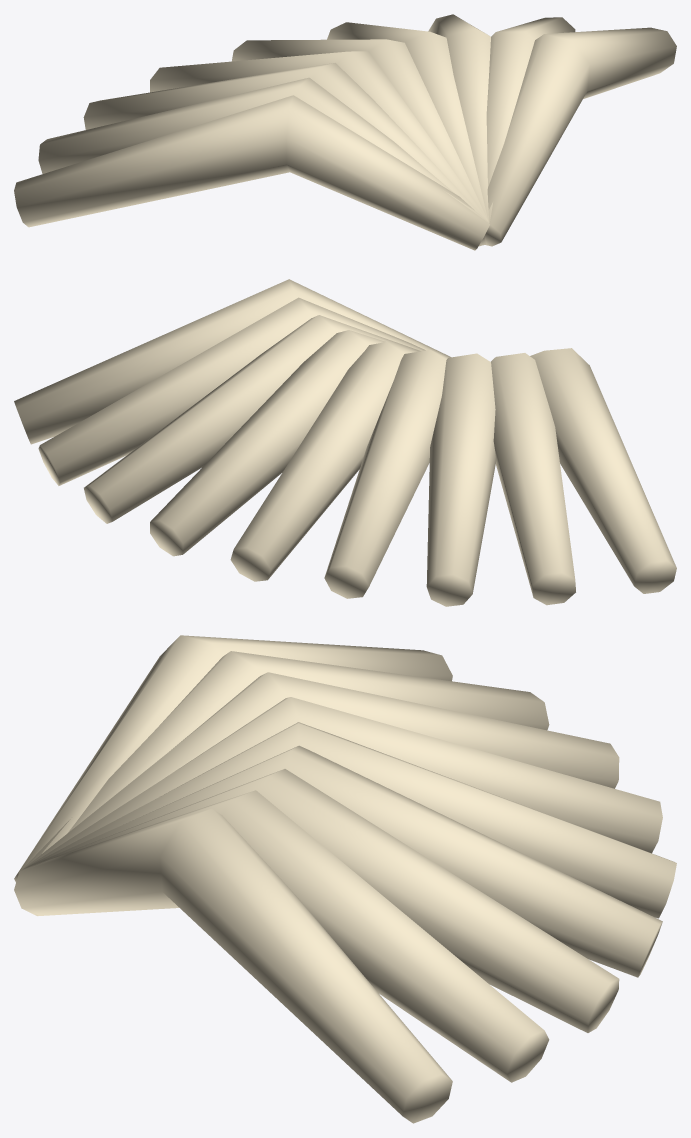
Rendered from SM_Env_Shell.fbx.
3 views of the same model, one above another, from view 1: azimuth 30°, elevation 25°; view 2: azimuth 150°, elevation 25°; view 3: azimuth 270°, elevation 25° (orthographic). The views are drawn at different scales.
Parts seen in each view (by area): view 1: Shell_rib, Shell_rib.008, Shell_rib.001, Shell_rib.002, Shell_rib.003, Shell_rib.004, Shell_rib.005, Shell_rib.007, Shell_rib.006; view 2: Shell_rib.005, Shell_rib, Shell_rib.004, Shell_rib.002, Shell_rib.003, Shell_rib.006, Shell_rib.001, Shell_rib.007, Shell_rib.008; view 3: Shell_rib.008, Shell_rib.007, Shell_rib.006, Shell_rib.005, Shell_rib.004, Shell_rib.003, Shell_rib.002, Shell_rib.001, Shell_rib.
Part boxes in pixels (x1,y1,x2,y2): Shell_rib: (14,95,489,250); Shell_rib.008: (484,27,676,246); Shell_rib.001: (38,77,488,249); Shell_rib.002: (83,63,488,221); Shell_rib.003: (150,51,487,245); Shell_rib.004: (231,39,487,246); Shell_rib.005: (327,22,488,245); Shell_rib.007: (484,17,575,244); Shell_rib.006: (428,14,490,245); Shell_rib.005: (150,330,385,556); Shell_rib: (530,348,676,593); Shell_rib.004: (230,342,417,581); Shell_rib.002: (426,353,496,606); Shell_rib.003: (324,350,448,598); Shell_rib.006: (84,315,420,523); Shell_rib.001: (491,353,575,605); Shell_rib.007: (38,297,425,485); Shell_rib.008: (14,279,450,444); Shell_rib.008: (14,808,452,1123); Shell_rib.007: (21,790,549,1082); Shell_rib.006: (23,769,619,1032); Shell_rib.005: (24,745,662,977); Shell_rib.004: (26,722,676,918); Shell_rib.003: (25,697,662,867); Shell_rib.002: (24,672,619,868); Shell_rib.001: (22,651,549,869); Shell_rib: (14,635,452,881).
Size of the model in its own units: 19.61 by 12.62 by 4.07.
